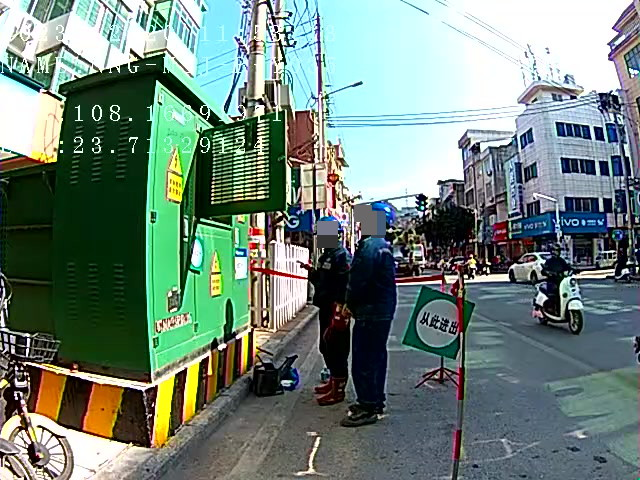downsuit: (350, 326, 390, 405), (314, 305, 345, 376)
halt: (361, 201, 395, 234), (319, 215, 346, 246)
inear: (363, 215, 380, 232), (326, 231, 338, 244)
intosign: (407, 286, 476, 359)
longglove: (321, 304, 347, 342)
person: (345, 203, 400, 421), (302, 218, 350, 408)
shoe: (312, 378, 344, 405)
upsuit: (347, 234, 399, 318), (312, 248, 344, 303)
worksign: (188, 234, 205, 274)
